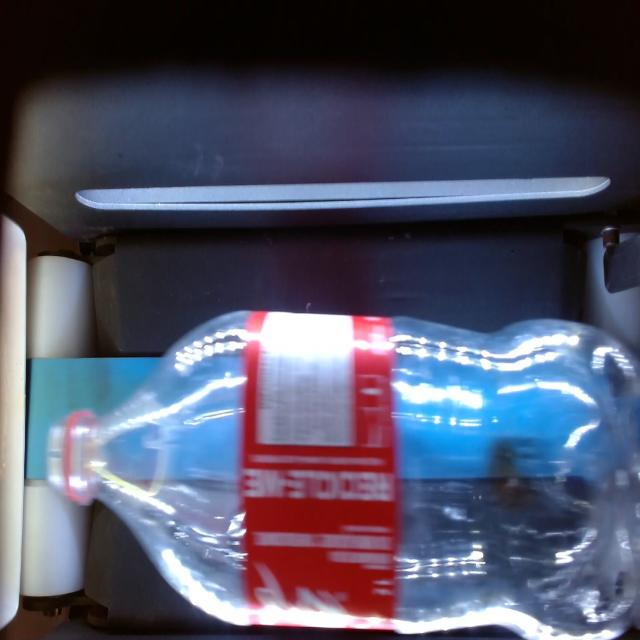bottom: (551, 299, 640, 640)
no_cap: (38, 406, 102, 506)
